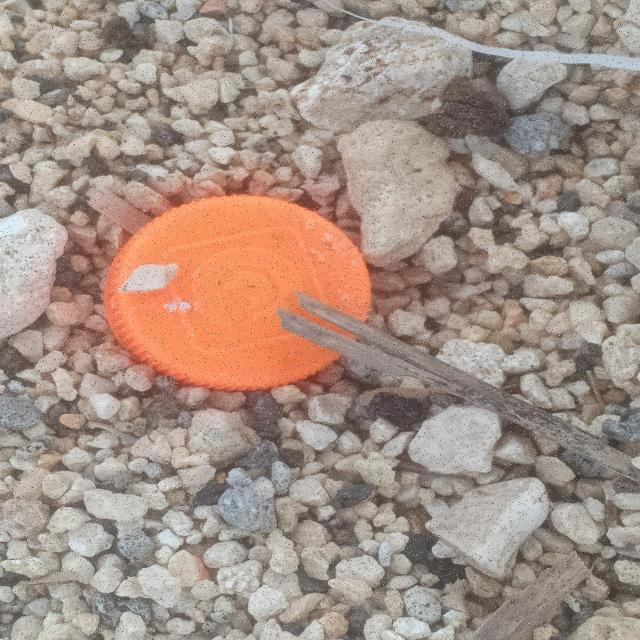plastic_waste: (102, 194, 376, 395)
